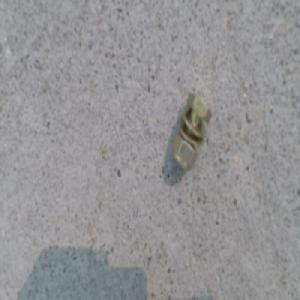BoltNutSet: (168, 96, 208, 173)
